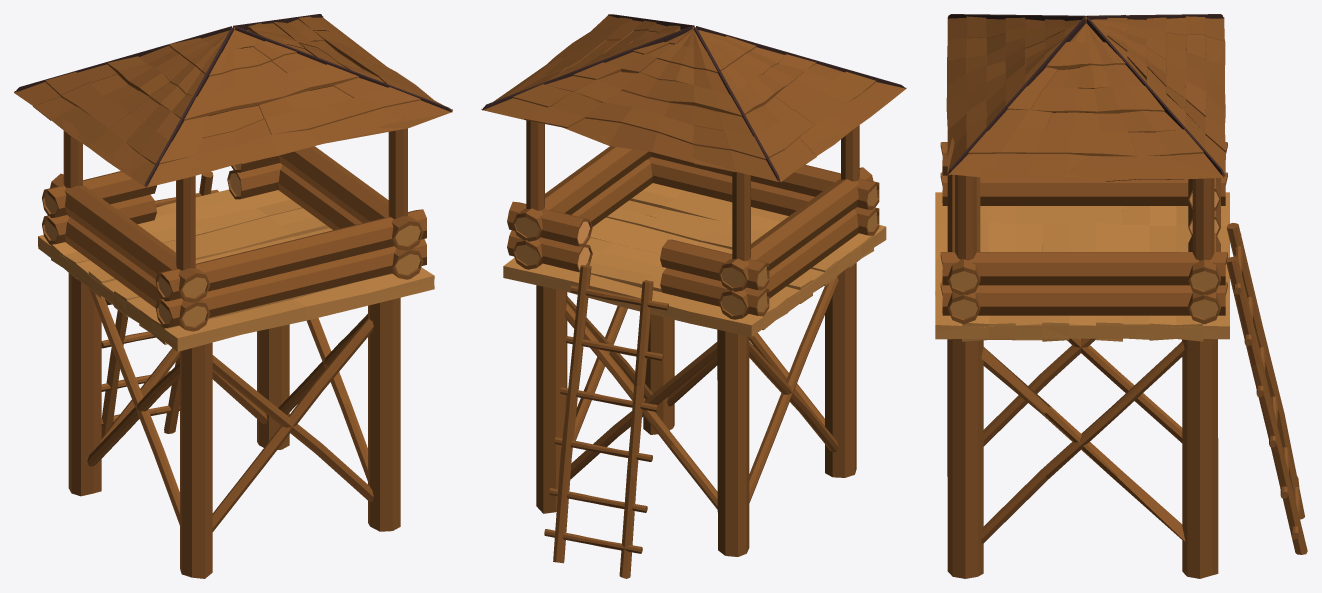
The model's file is watchTower.fbx.
3 renders of one model, left to right at view 1: azimuth 30°, elevation 25°; view 2: azimuth 150°, elevation 25°; view 3: azimuth 270°, elevation 25°, orthographic. The views are drawn at different scales.
Visible parts, largest first — view 1: Cylinder; view 2: Cylinder; view 3: Cylinder.
Part boxes in pixels (bbox=[...]): Cylinder: bbox=[14, 14, 452, 578]; Cylinder: bbox=[481, 14, 906, 578]; Cylinder: bbox=[935, 14, 1307, 578].
Bounding box in the file's own units: 661 × 1000 × 652.
